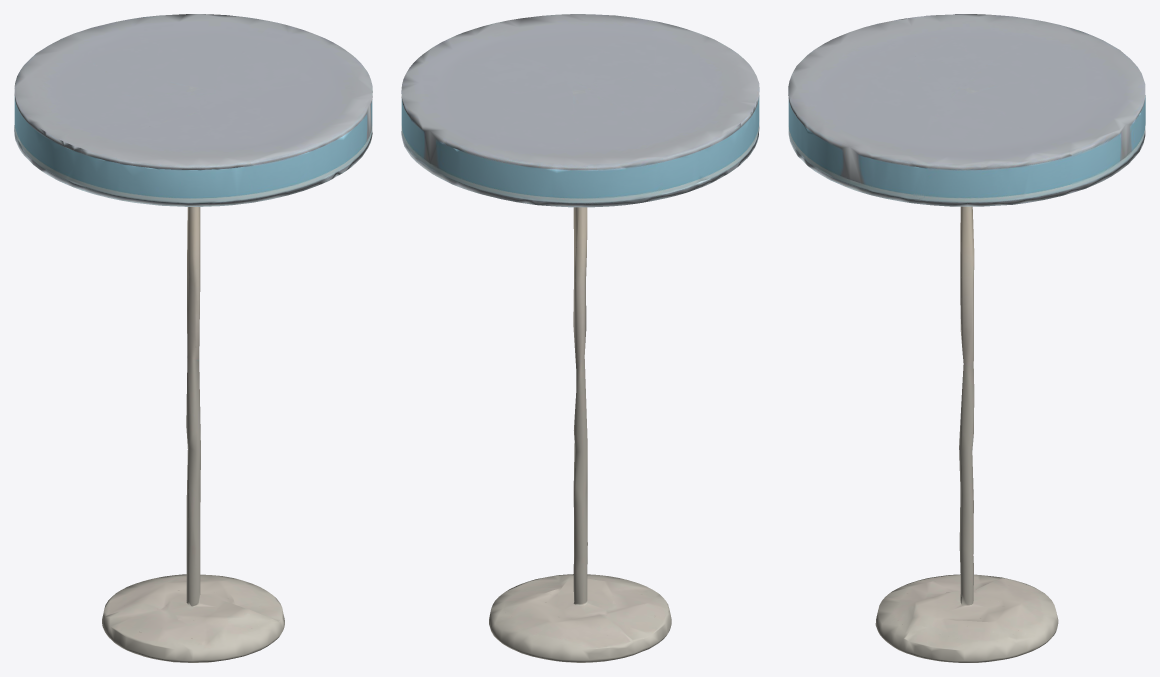
File: glb-pedestal-lamp.glb
3 views of the same model, side by side, from view 1: azimuth 30°, elevation 25°; view 2: azimuth 150°, elevation 25°; view 3: azimuth 270°, elevation 25° (orthographic).
Visible parts, largest first — view 1: tripo_node_5c80c5cd-9085-4222-988e-92bbf08915f8; view 2: tripo_node_5c80c5cd-9085-4222-988e-92bbf08915f8; view 3: tripo_node_5c80c5cd-9085-4222-988e-92bbf08915f8.
Boxes of the visible parts, x1,y1,x2,y2 form: tripo_node_5c80c5cd-9085-4222-988e-92bbf08915f8: (14,14,372,662); tripo_node_5c80c5cd-9085-4222-988e-92bbf08915f8: (401,14,759,662); tripo_node_5c80c5cd-9085-4222-988e-92bbf08915f8: (788,14,1145,662).
Bounding box in the file's own units: 0.604 × 1 × 0.6036.
Materials: 1 (1 with a texture image).
